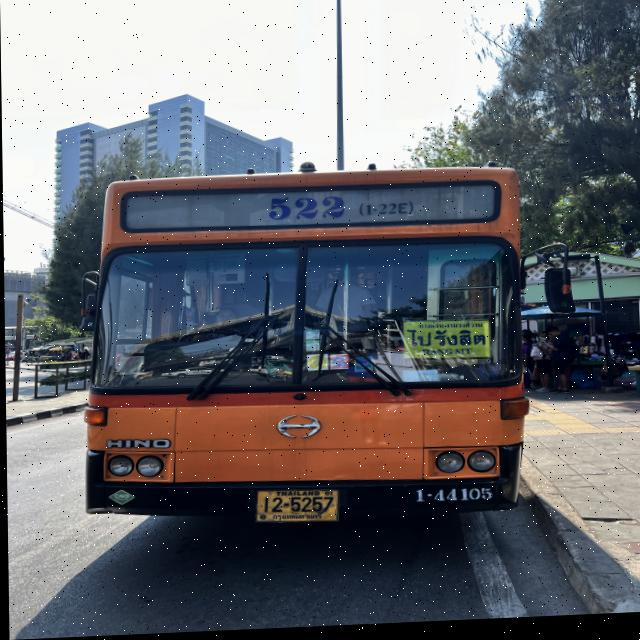BMTA-bus: (79, 165, 530, 537)
Bus-Line-Number: (263, 189, 422, 227)
Destination-Sign-Normal-Expressway: (400, 321, 493, 365)
